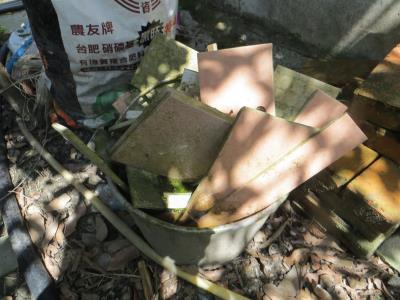plastic_bag: (57, 1, 179, 122)
